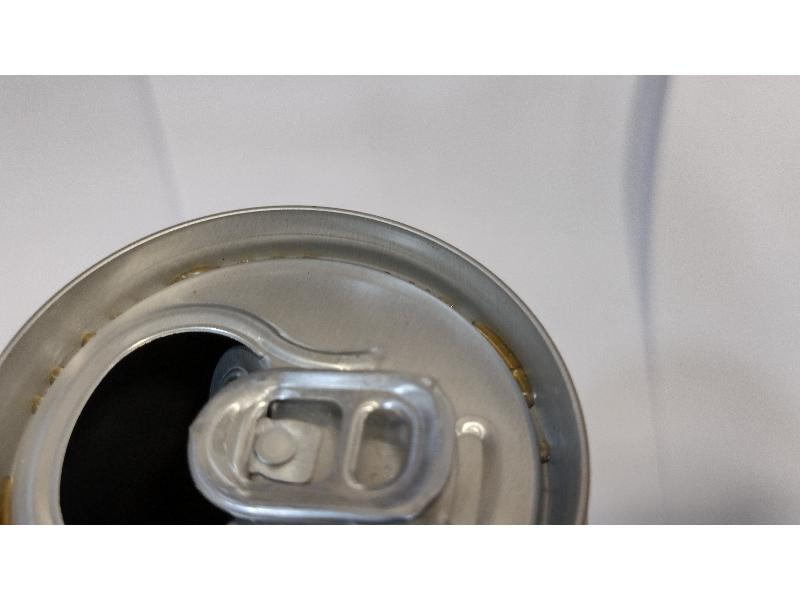can: (1, 195, 600, 536)
